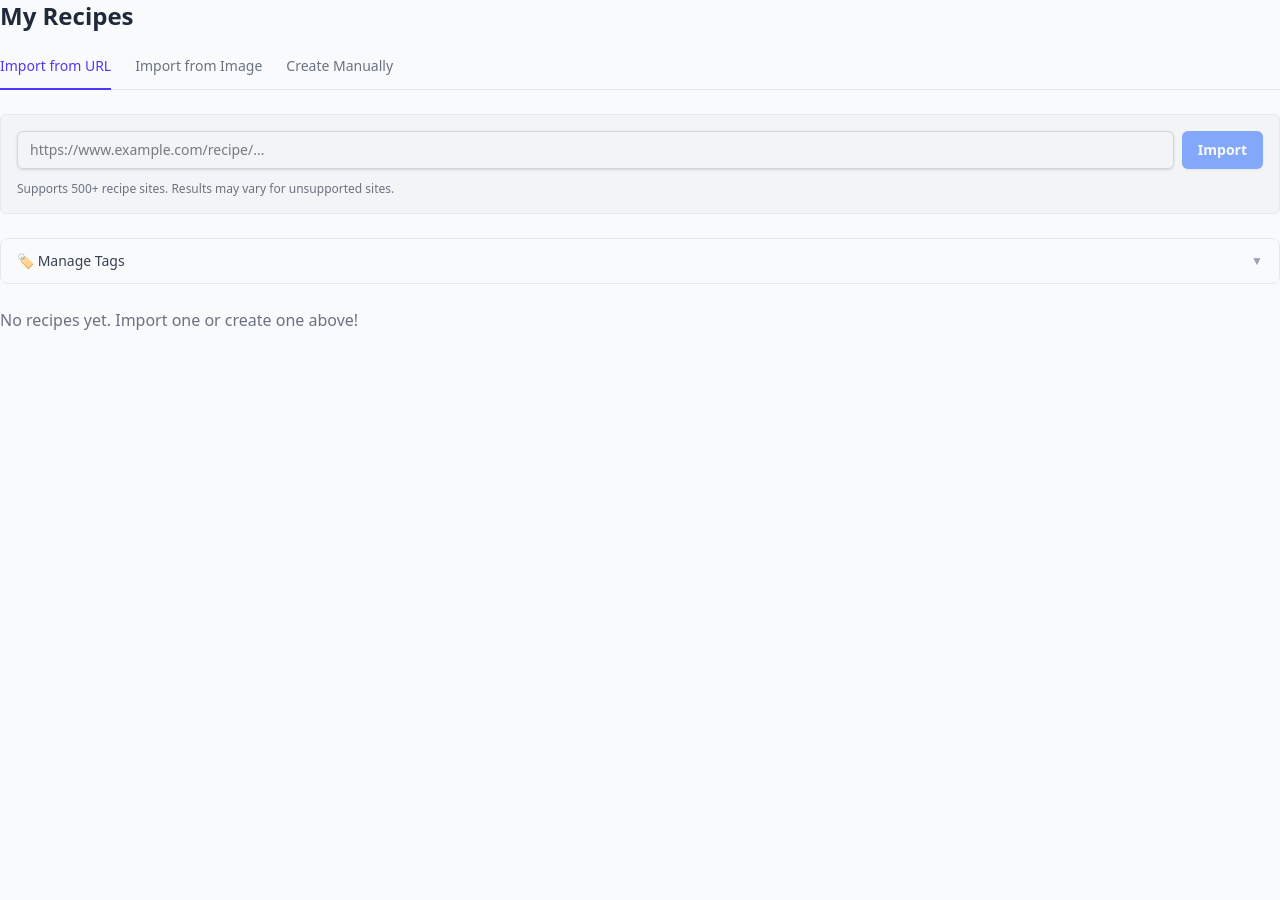
Test: RecipesPage › manual create form submits and prepends recipe
Expected: the text "No recipes yet. Import one or create one above!" is shown, [0,309,358,331]
Click the button "Create Manually": [340, 73] box [286,56,393,90]
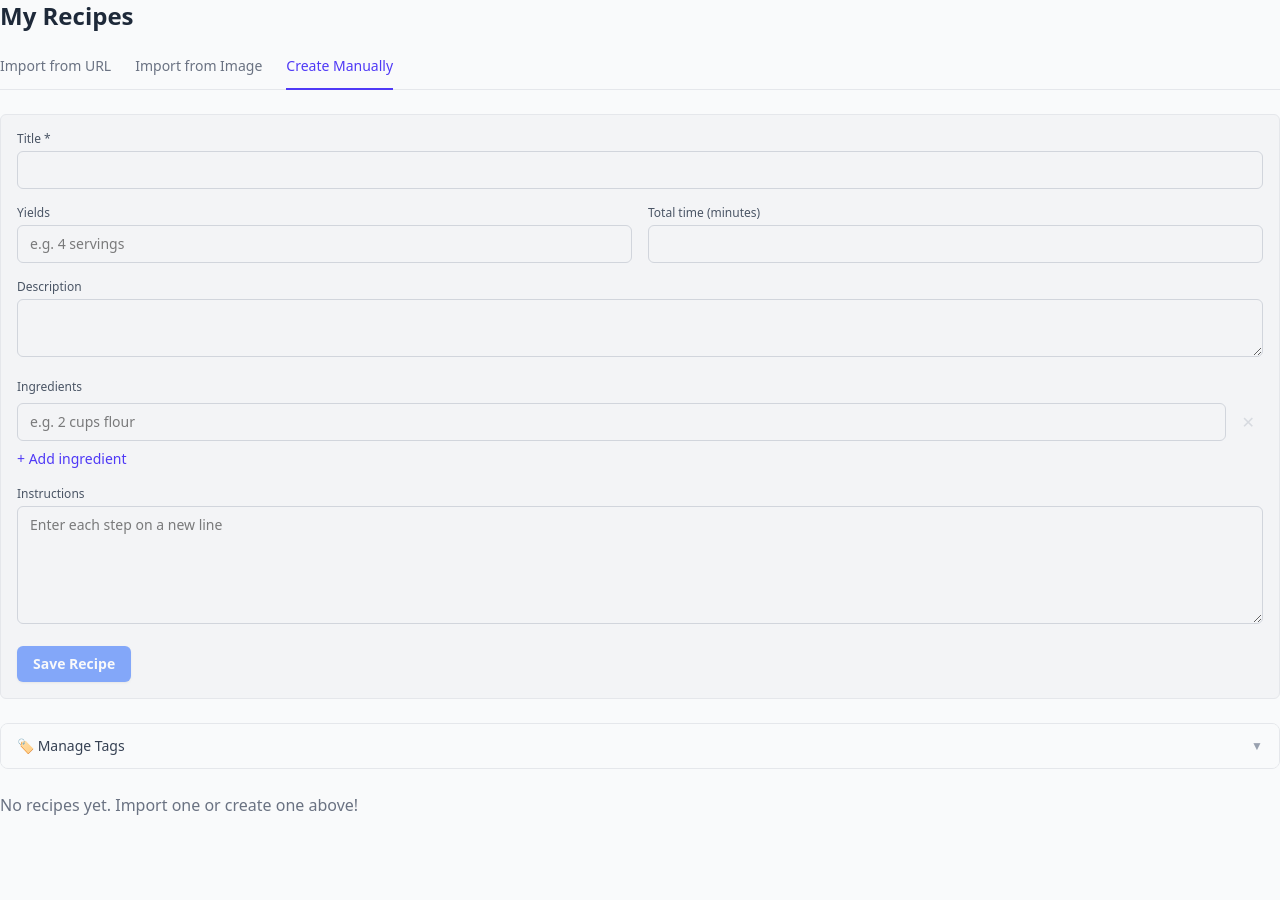
Note: Title is the first unlabeled text input in the manual form
In the 1st field: [640, 170] box [17,151,1263,189], type "My Recipe"
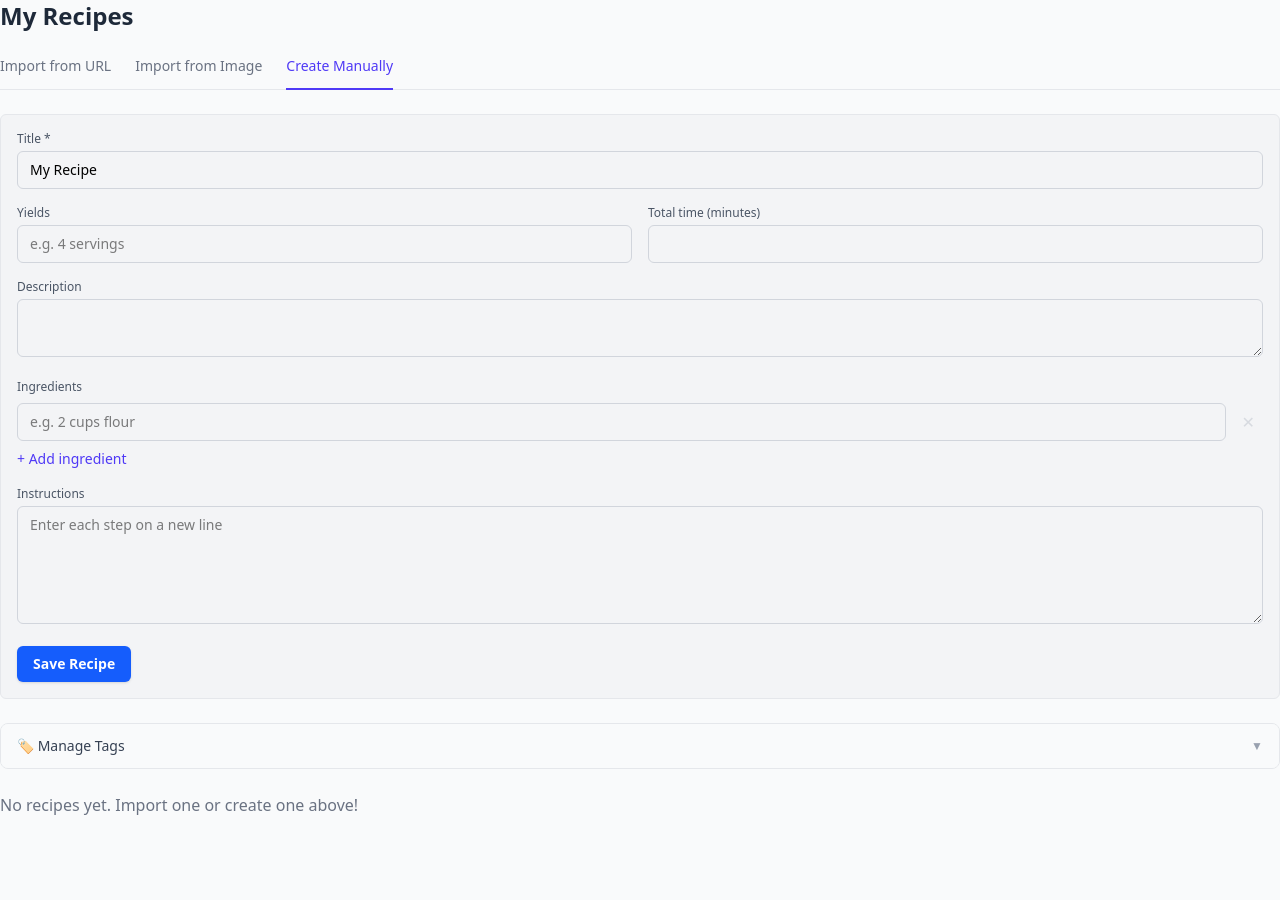
Click the button "Save Recipe": [74, 664] box [17,646,131,682]
(page scrolled)
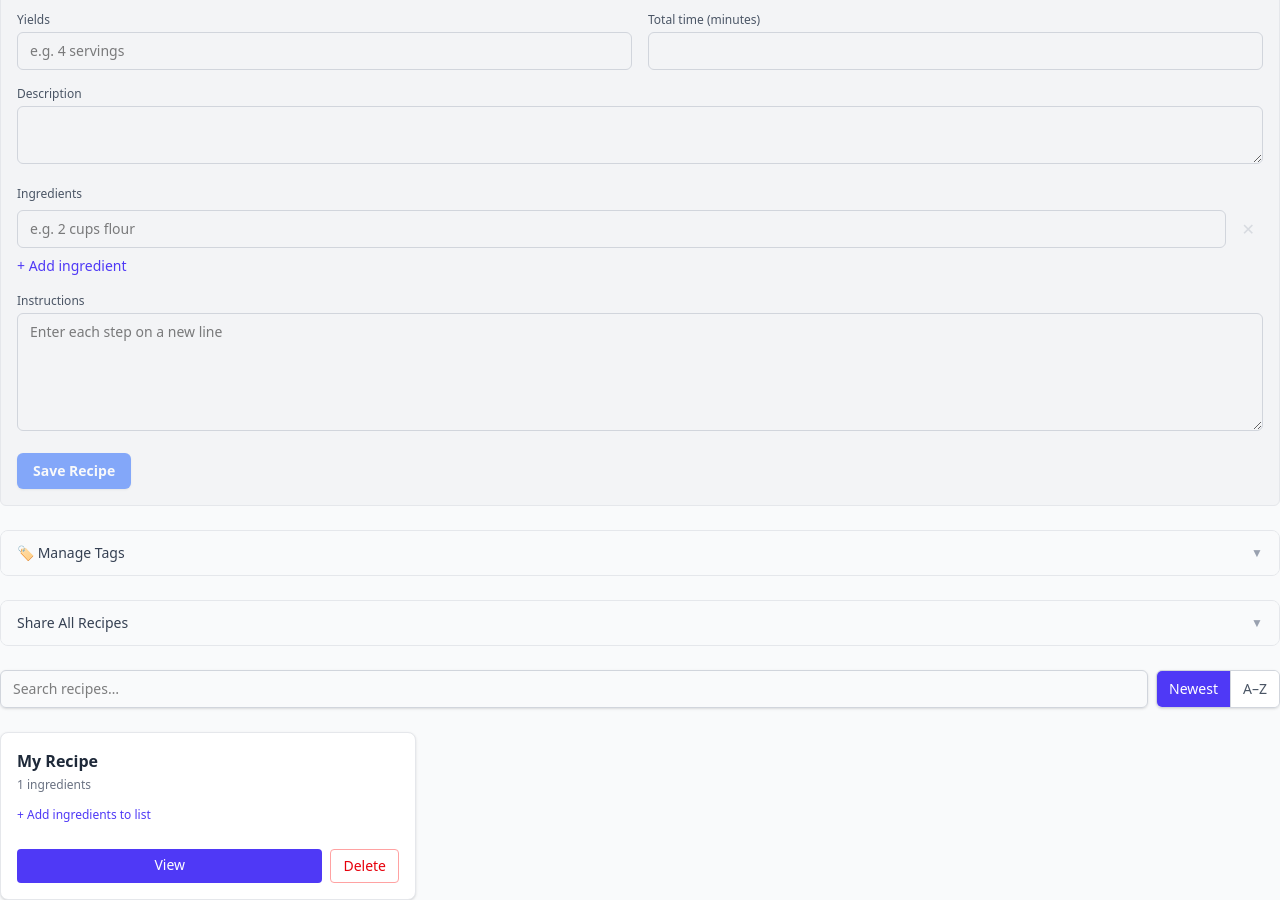
Now the heading "My Recipe" is shown, box [17,750,98,772]
